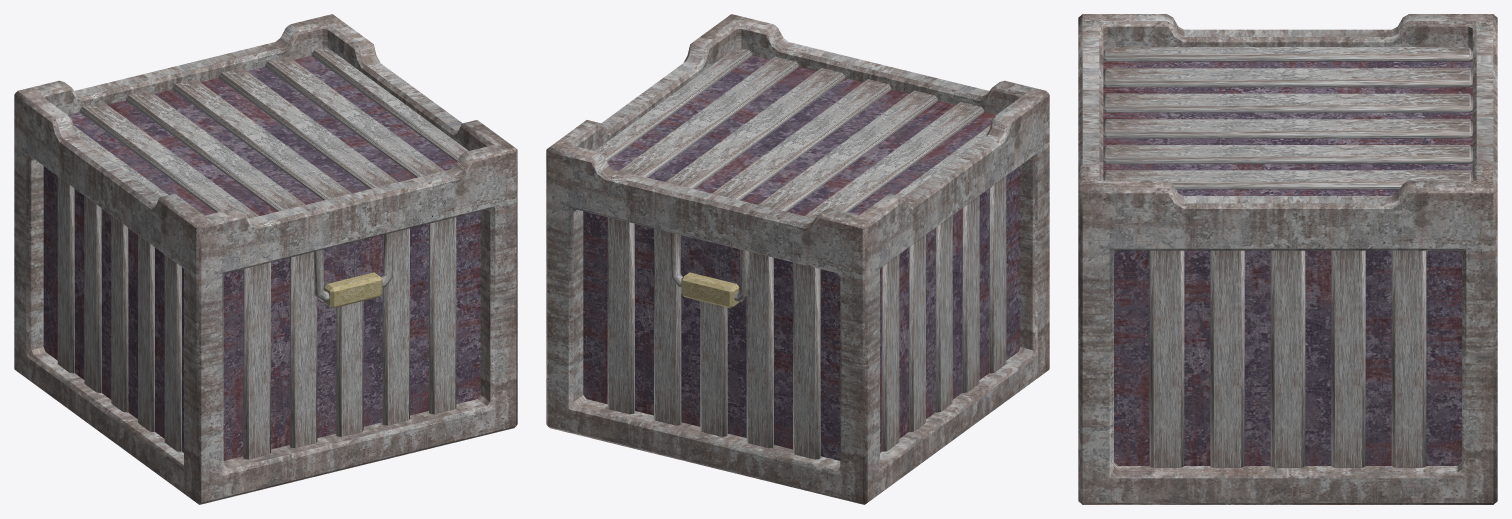
File: static.glb
The picture shows the model from 3 angles, left to right: view 1: azimuth 30°, elevation 25°; view 2: azimuth 150°, elevation 25°; view 3: azimuth 270°, elevation 25°; orthographic projection. The views are drawn at different scales.
Visible parts, largest first — view 1: Boole_2, Cube_1_4, Cube_0_2, Cube_4_2, Cube_1_2, Cube_3_2, Cube_5, Cube_3_4, Cube_4_3, Cube_2_4, Cube_1_3, Cube_2_3 (+9 smaller); view 2: Boole_2, Cube_1_4, Cube_0_2, Cube_4_2, Cube_1_2, Cube_3_2, Cube_5, Cube_3_4, Cube_4_3, Cube_2_4, Cube_1_3, Cube_2_3 (+9 smaller); view 3: Boole_2, Cube_1_4, Cube_0, Cube_2, Cube_4, Cube_1, Cube_3, Cube_2_4, Cube_1_3, Cube_3_4, Cube_4_3, Cube_5 (+1 smaller).
Part boxes in pixels (bbox=[...]): Boole_2: bbox=[14, 14, 517, 504]; Cube_1_4: bbox=[43, 55, 480, 460]; Cube_0_2: bbox=[243, 262, 270, 459]; Cube_4_2: bbox=[429, 217, 456, 414]; Cube_1_2: bbox=[290, 252, 317, 448]; Cube_3_2: bbox=[382, 228, 409, 425]; Cube_5: bbox=[265, 56, 444, 177]; Cube_3_4: bbox=[172, 79, 351, 200]; Cube_4_3: bbox=[218, 68, 398, 188]; Cube_2_4: bbox=[126, 90, 305, 211]; Cube_1_3: bbox=[79, 102, 258, 218]; Cube_2_3: bbox=[336, 301, 363, 436]; Boole_2: bbox=[546, 14, 1049, 504]; Cube_1_4: bbox=[583, 55, 1020, 460]; Cube_0_2: bbox=[793, 262, 820, 459]; Cube_4_2: bbox=[607, 217, 634, 414]; Cube_1_2: bbox=[746, 252, 773, 448]; Cube_3_2: bbox=[654, 228, 681, 425]; Cube_5: bbox=[619, 56, 798, 177]; Cube_3_4: bbox=[712, 79, 891, 200]; Cube_4_3: bbox=[665, 68, 845, 188]; Cube_2_4: bbox=[758, 90, 937, 211]; Cube_1_3: bbox=[805, 102, 984, 218]; Cube_2_3: bbox=[700, 301, 727, 436]; Boole_2: bbox=[1078, 14, 1497, 504]; Cube_1_4: bbox=[1103, 60, 1472, 465]; Cube_0: bbox=[1149, 250, 1184, 467]; Cube_2: bbox=[1270, 250, 1305, 467]; Cube_4: bbox=[1391, 250, 1426, 467]; Cube_1: bbox=[1210, 250, 1244, 467]; Cube_3: bbox=[1331, 250, 1365, 467]; Cube_2_4: bbox=[1103, 93, 1472, 112]; Cube_1_3: bbox=[1103, 68, 1472, 87]; Cube_3_4: bbox=[1103, 119, 1472, 138]; Cube_4_3: bbox=[1103, 145, 1472, 163]; Cube_5: bbox=[1103, 170, 1472, 189].
Size of the model in its own units: 2 by 1.67 by 2.
3 materials, 3 textured.
